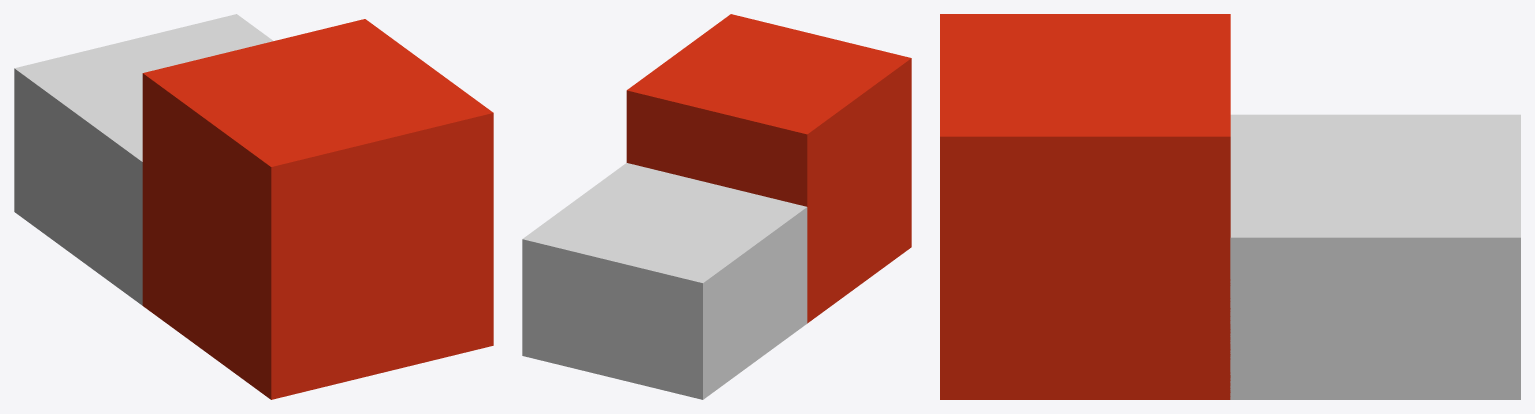
Rendered from first-model.fbx.
3 views of the same model, side by side, from view 1: azimuth 30°, elevation 25°; view 2: azimuth 150°, elevation 25°; view 3: azimuth 270°, elevation 25° (orthographic). The views are drawn at different scales.
Visible parts, largest first — view 1: Cube.001, Cube; view 2: Cube, Cube.001; view 3: Cube.001, Cube.
Boxes of the visible parts, left/top/right/bottom form: Cube.001: left=142, top=19, right=493, bottom=399; Cube: left=14, top=14, right=273, bottom=305; Cube: left=522, top=163, right=807, bottom=399; Cube.001: left=626, top=14, right=911, bottom=323; Cube.001: left=940, top=14, right=1230, bottom=399; Cube: left=1230, top=114, right=1520, bottom=399.
Bounding box in the file's own units: 200 × 200 × 400.
